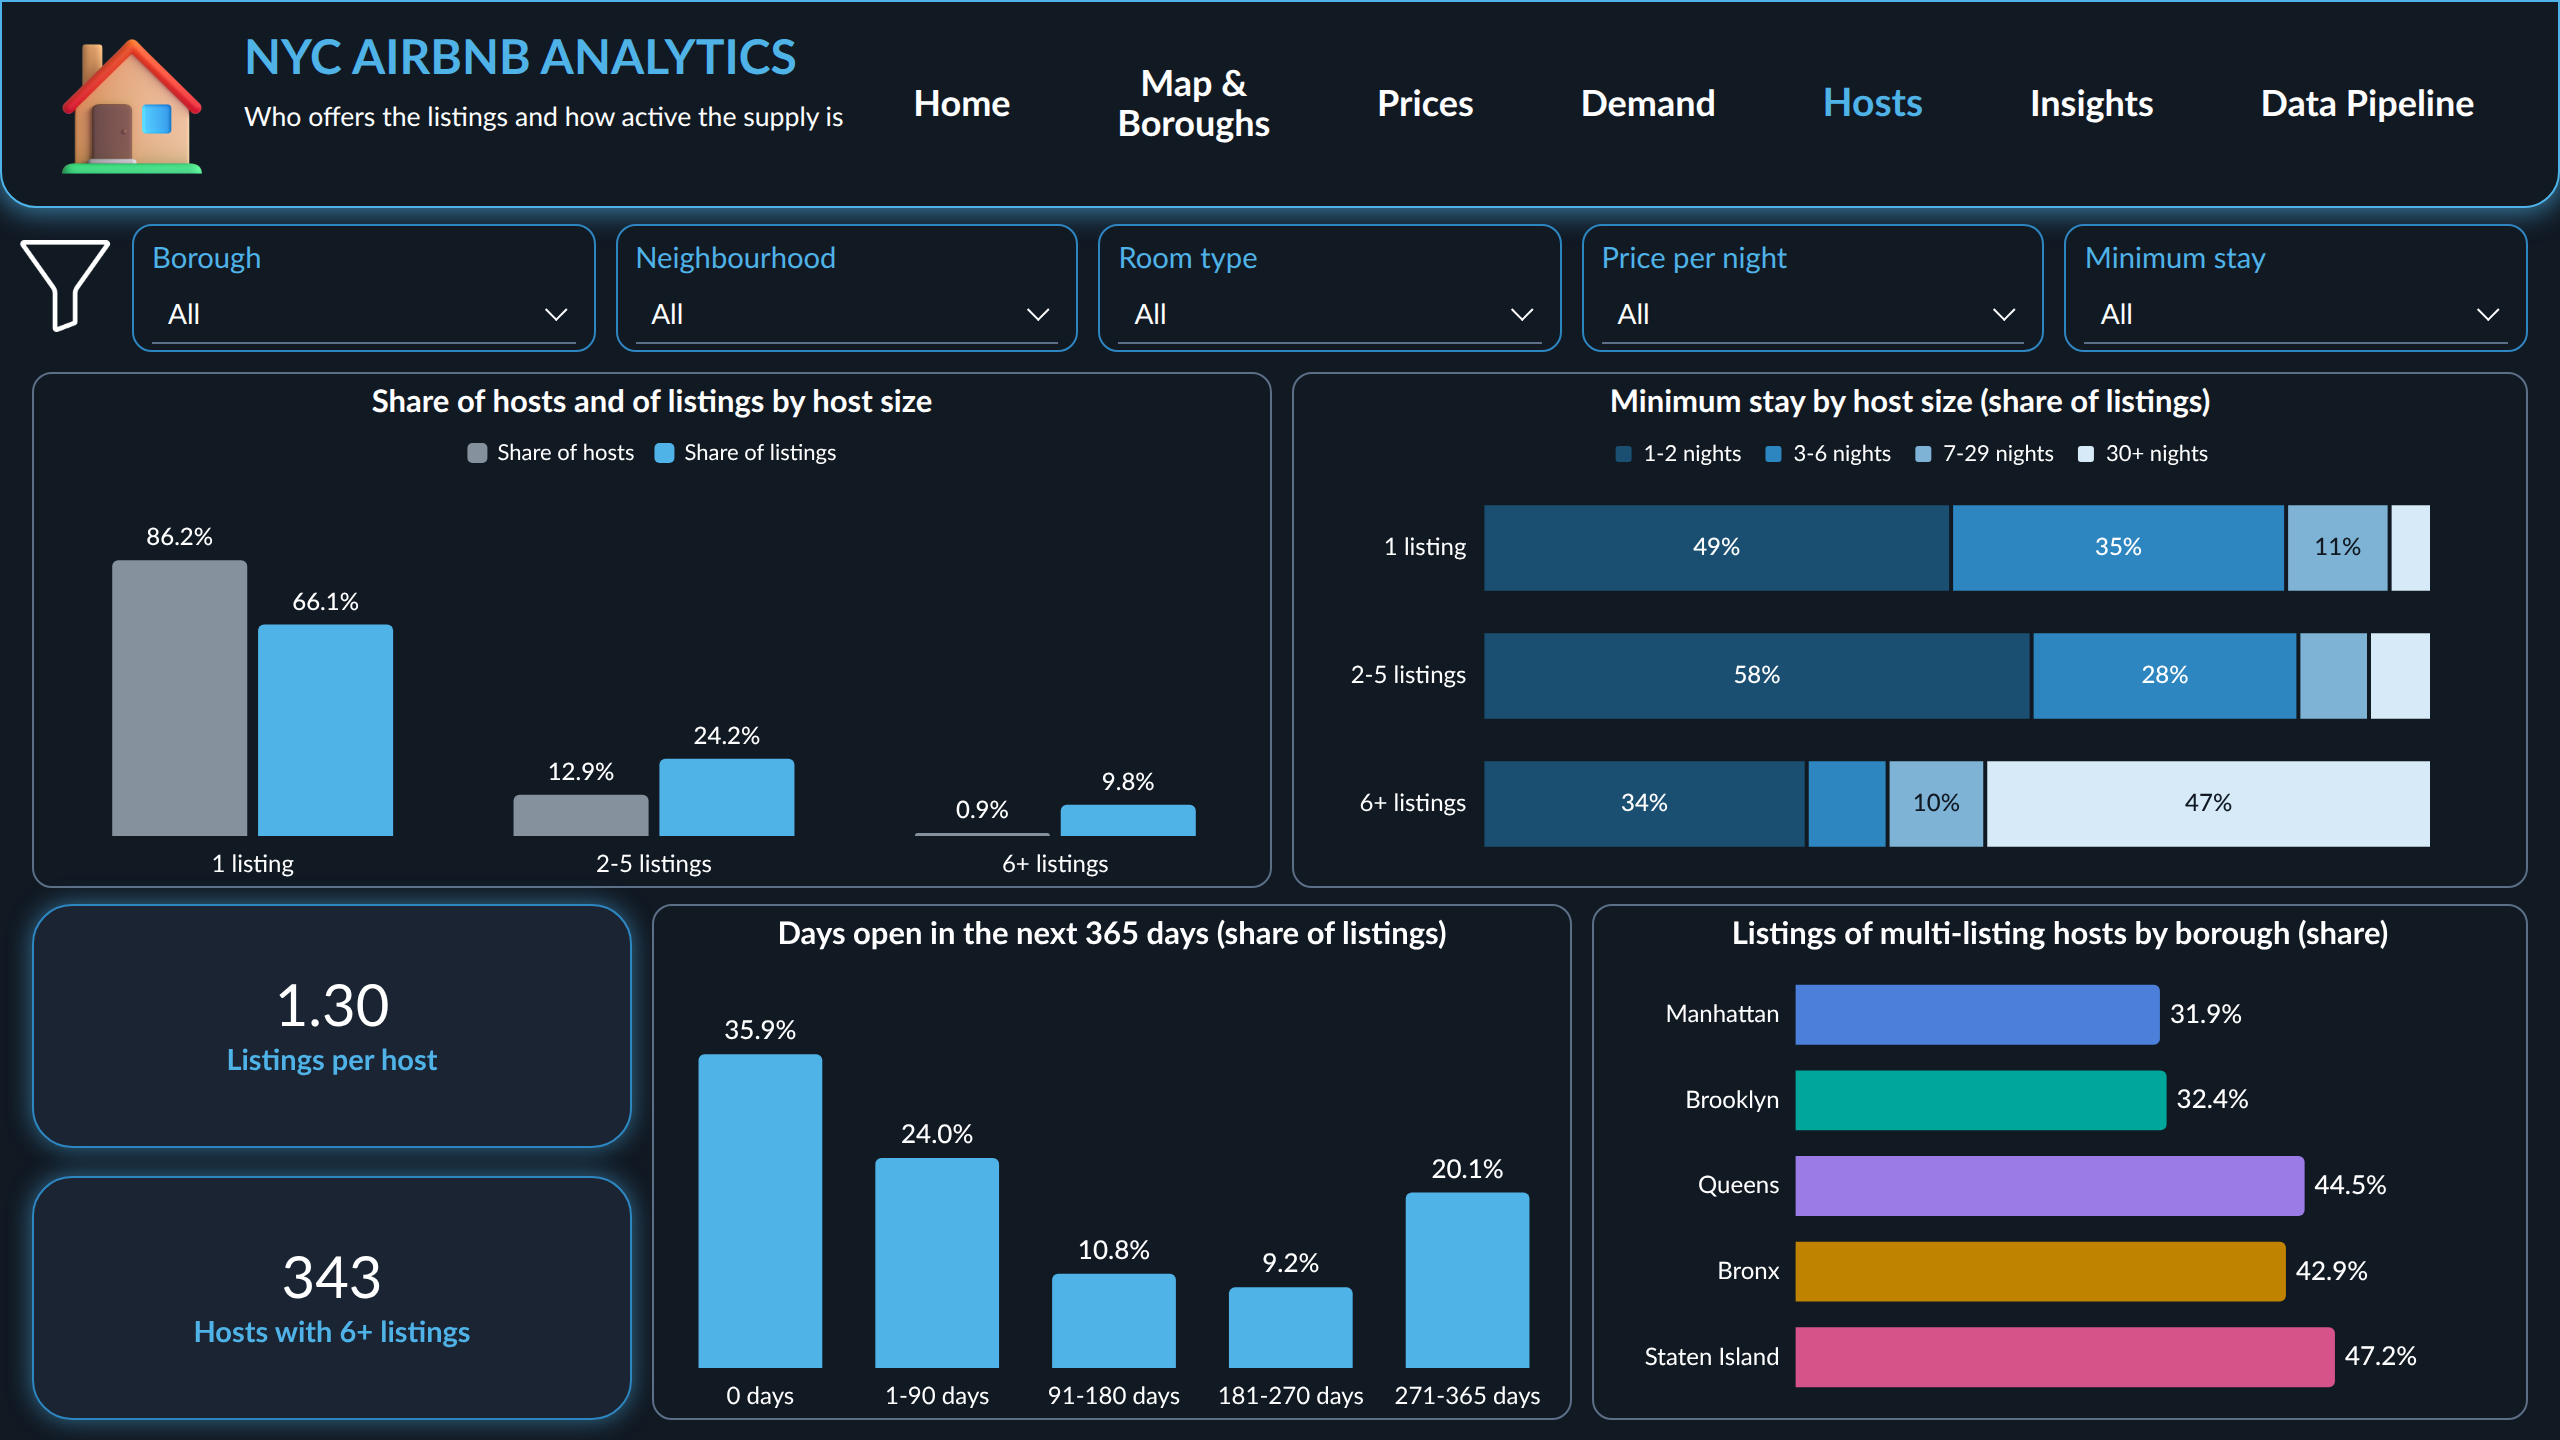

This screenshot's page, from the dashboard's own definition file:
{"tool":"powerbi","page":{"name":"Hosts","canvas":[1280,720],"ordinal":4},"visuals":[{"type":"shape","box":[0,0,1280,104],"z":1000},{"type":"image","box":[18,12,96,80],"z":2000},{"type":"textbox","box":[122,14,300,76],"z":3000},{"type":"pageNavigator","box":[430,26,834,52],"z":4000},{"type":"image","box":[10,120,46,46],"z":5000},{"type":"shape","box":[66,112,231.6,64],"z":6000},{"type":"slicer","fields":{"Values":["Listings.Borough"]},"box":[70,114,223.6,60],"z":7000},{"type":"shape","box":[307.6,112,231.6,64],"z":8000},{"type":"slicer","fields":{"Values":["Listings.Neighbourhood"]},"box":[311.6,114,223.6,60],"z":9000},{"type":"shape","box":[549.2,112,231.6,64],"z":10000},{"type":"slicer","fields":{"Values":["Listings.Room Type"]},"box":[553.2,114,223.6,60],"z":11000},{"type":"shape","box":[790.8,112,231.6,64],"z":12000},{"type":"slicer","fields":{"Values":["Listings.Price Band"]},"box":[794.8,114,223.6,60],"z":13000},{"type":"shape","box":[1032.4,112,231.6,64],"z":14000},{"type":"slicer","fields":{"Values":["Listings.Minimum Stay"]},"box":[1036.4,114,223.6,60],"z":15000},{"type":"shape","box":[16,186,620,258],"z":16000},{"type":"clusteredColumnChart","title":"Share of hosts and of listings by host size","fields":{"Category":["Listings.Host Size"],"Y":["Listings.Host Share","Listings.Listing Share"]},"box":[20,190,612,250],"z":17000},{"type":"shape","box":[646,186,618,258],"z":18000},{"type":"hundredPercentStackedBarChart","title":"Minimum stay by host size (share of listings)","fields":{"Category":["Listings.Host Size"],"Series":["Listings.Minimum Stay"],"Y":["Listings.Total Listings"]},"box":[650,190,610,250],"z":19000},{"type":"card","title":"Listings per host","fields":{"Values":["Listings.Listings per Host"]},"box":[16,452,300,122],"z":20000},{"type":"card","title":"Hosts with 6+ listings","fields":{"Values":["Listings.Hosts with 6+ Listings"]},"box":[16,588,300,122],"z":21000},{"type":"shape","box":[326,452,460,258],"z":22000},{"type":"columnChart","title":"Days open in the next 365 days (share of listings)","fields":{"Category":["Listings.Availability Band"],"Y":["Listings.Listing Share"]},"box":[330,456,452,250],"z":23000},{"type":"shape","box":[796,452,468,258],"z":24000},{"type":"barChart","title":"Listings of multi-listing hosts by borough (share)","fields":{"Category":["Listings.Borough"],"Y":["Listings.Multi-listing Host Share"]},"box":[800,456,460,250],"z":25000}]}

Visuals, with their boxes in screenshot pixels (x1, y1, x2, y2), scaled from the page's 1280x720 canvas onto the 2560x1440 screenshot:
shape: bbox(0, 0, 2559, 208)
image: bbox(36, 24, 228, 184)
textbox: bbox(244, 28, 844, 180)
pageNavigator: bbox(860, 52, 2528, 156)
image: bbox(20, 240, 112, 332)
shape: bbox(132, 224, 595, 352)
slicer - Listings.Borough: bbox(140, 228, 587, 348)
shape: bbox(615, 224, 1078, 352)
slicer - Listings.Neighbourhood: bbox(623, 228, 1070, 348)
shape: bbox(1098, 224, 1562, 352)
slicer - Listings.Room Type: bbox(1106, 228, 1554, 348)
shape: bbox(1582, 224, 2045, 352)
slicer - Listings.Price Band: bbox(1590, 228, 2037, 348)
shape: bbox(2065, 224, 2528, 352)
slicer - Listings.Minimum Stay: bbox(2073, 228, 2520, 348)
shape: bbox(32, 372, 1272, 888)
"Share of hosts and of listings by host size" clusteredColumnChart: bbox(40, 380, 1264, 880)
shape: bbox(1292, 372, 2528, 888)
"Minimum stay by host size (share of listings)" hundredPercentStackedBarChart: bbox(1300, 380, 2520, 880)
"Listings per host" card: bbox(32, 904, 632, 1148)
"Hosts with 6+ listings" card: bbox(32, 1176, 632, 1420)
shape: bbox(652, 904, 1572, 1420)
"Days open in the next 365 days (share of listings)" columnChart: bbox(660, 912, 1564, 1412)
shape: bbox(1592, 904, 2528, 1420)
"Listings of multi-listing hosts by borough (share)" barChart: bbox(1600, 912, 2520, 1412)
